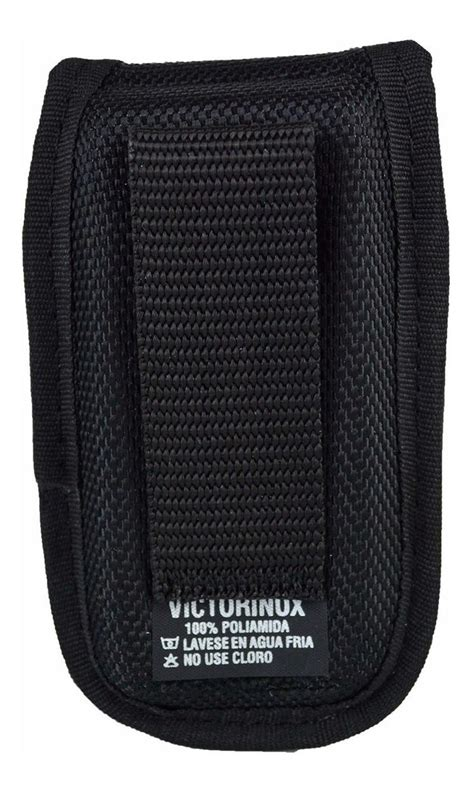nylon: (26, 39, 445, 749)
